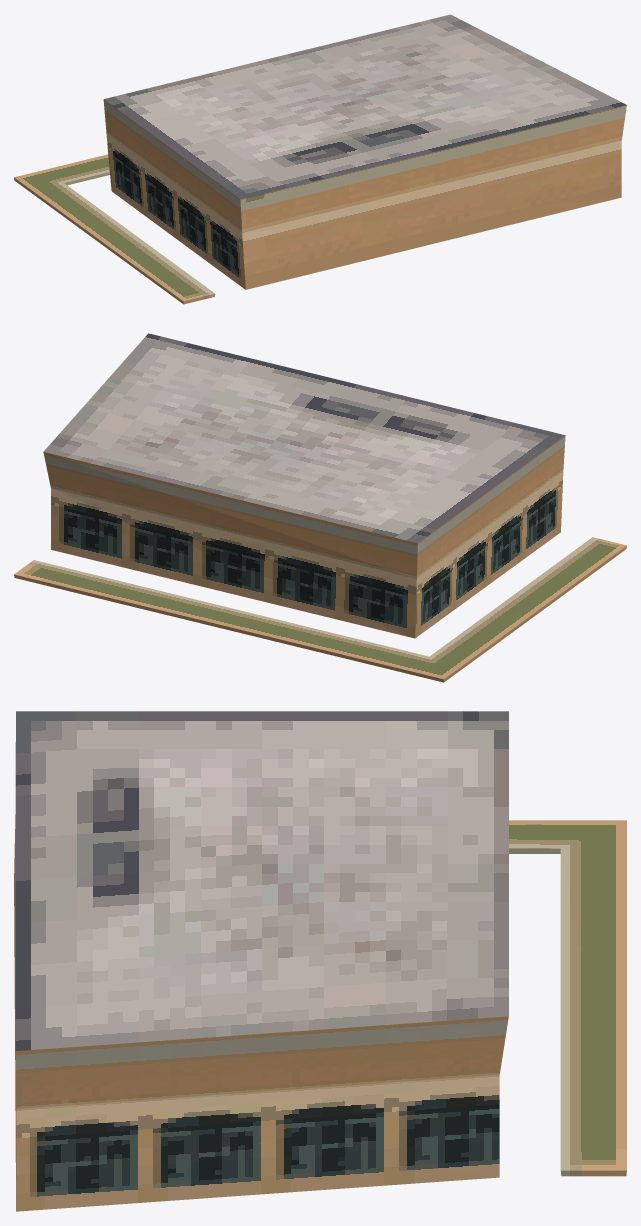
Rendered from lodwalgren1.obj.
3 views of the same model, one above another, from view 1: azimuth 30°, elevation 25°; view 2: azimuth 150°, elevation 25°; view 3: azimuth 270°, elevation 25° (orthographic). The views are drawn at different scales.
Parts seen in each view (by area): view 1: lodwalgren1; view 2: lodwalgren1; view 3: lodwalgren1.
Part boxes in pixels (box(x1,y1,x2,y2)): lodwalgren1: box(14, 14, 626, 304); lodwalgren1: box(14, 333, 626, 682); lodwalgren1: box(14, 711, 626, 1211).
Bounding box in the file's own units: 44.27 × 8.73 × 29.4.
Materials: 2 (2 with a texture image).
